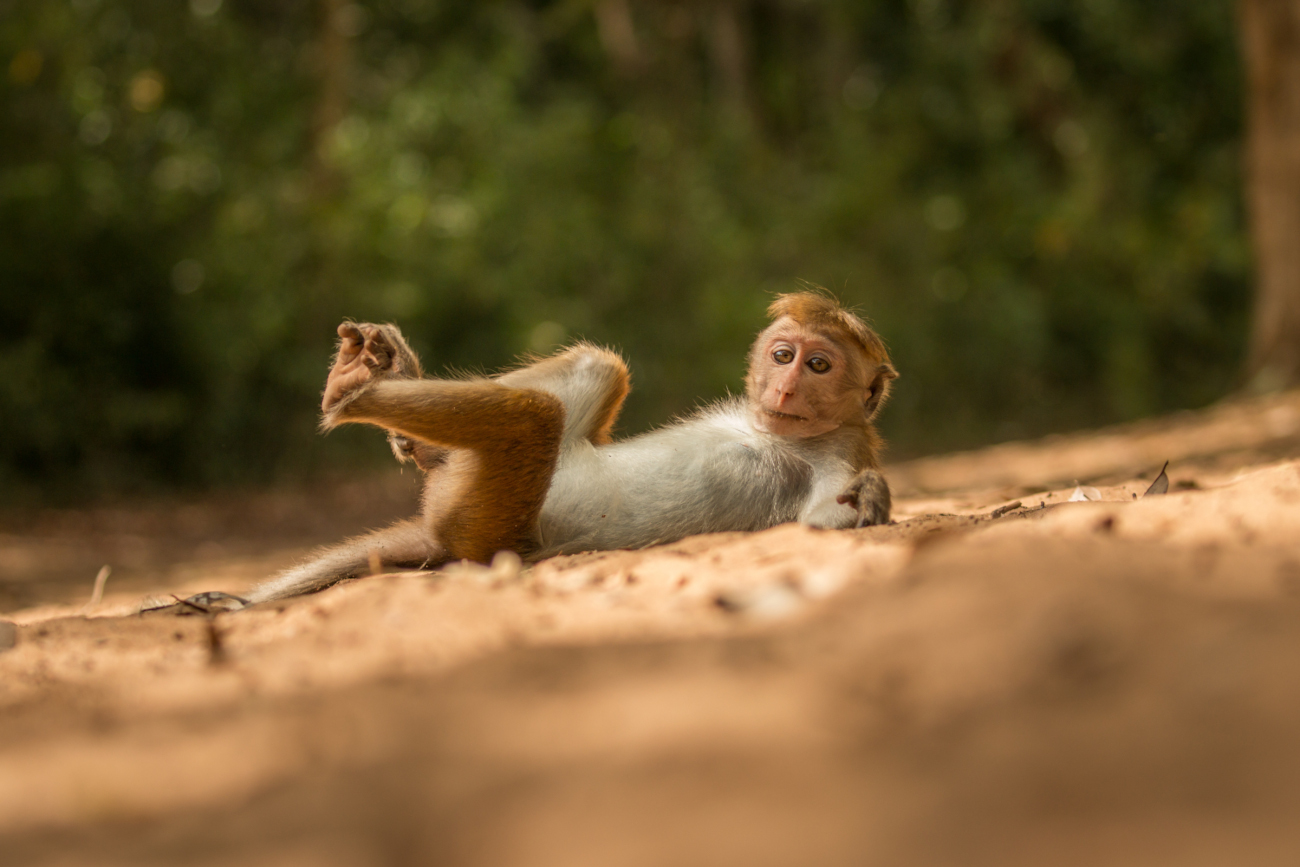ape: (81, 289, 899, 618)
